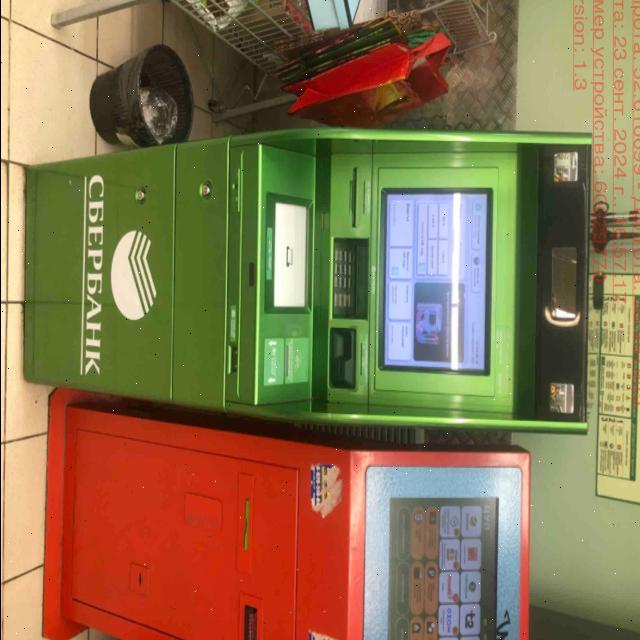bank: (20, 130, 598, 432)
